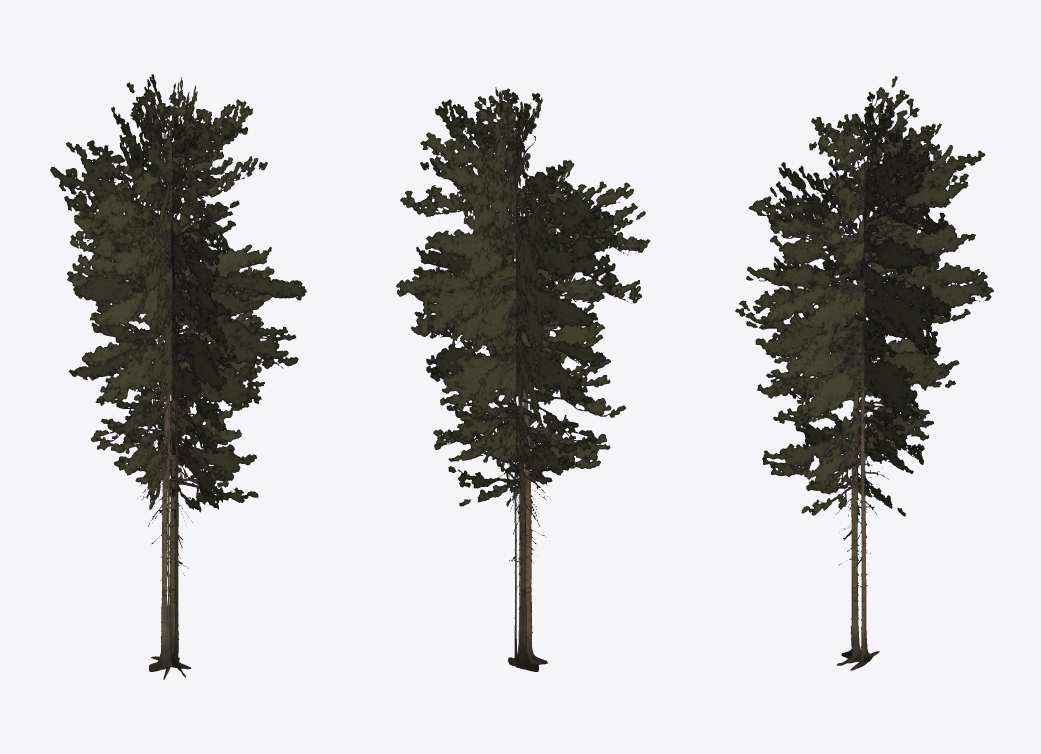
Rendered from tree_pine_a.glb.
3 renders of one model, left to right at view 1: azimuth 30°, elevation 25°; view 2: azimuth 150°, elevation 25°; view 3: azimuth 270°, elevation 25°, orthographic.
Visible parts, largest first — view 1: tree_pine_a; view 2: tree_pine_a; view 3: tree_pine_a.
Boxes of the visible parts, x1,y1,x2,y2 form: tree_pine_a: (50, 74, 306, 679); tree_pine_a: (396, 87, 650, 671); tree_pine_a: (735, 76, 993, 670).
Size of the model in its own units: 10.39 by 20.78 by 10.39.
Materials: 1 (1 with a texture image).
